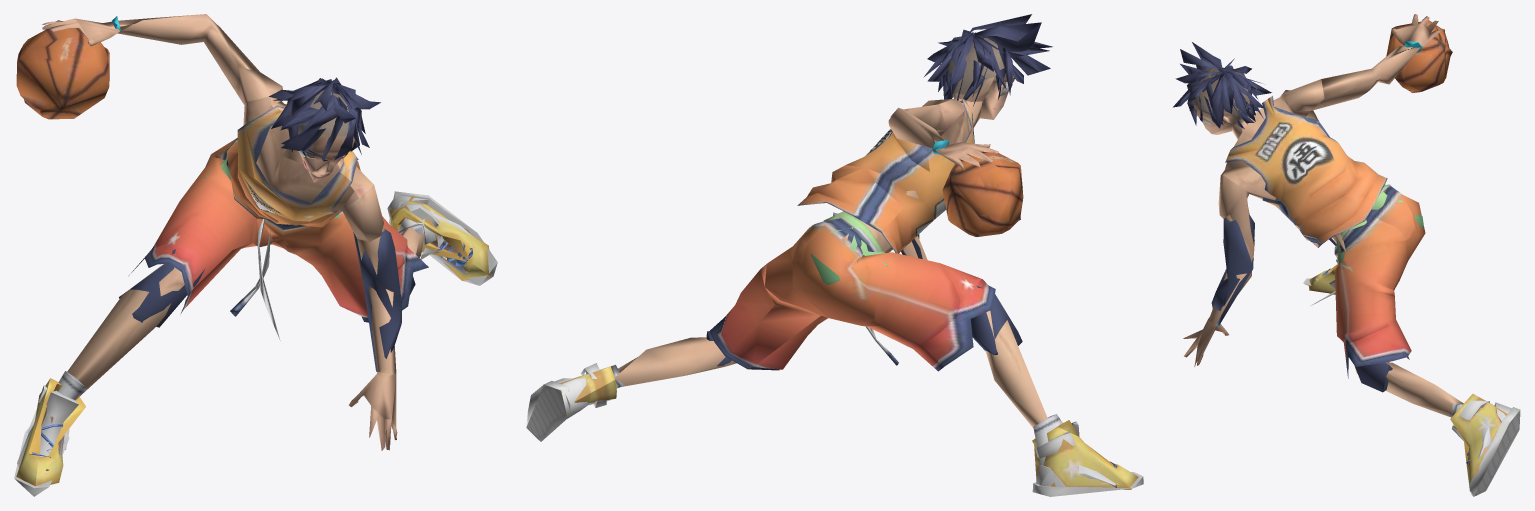
Rendered from Basketball_player.glb.
3 views of the same model, side by side, from view 1: azimuth 30°, elevation 25°; view 2: azimuth 150°, elevation 25°; view 3: azimuth 270°, elevation 25° (orthographic). The views are drawn at different scales.
Parts seen in each view (by area): view 1: 3d66-Editable_mesh-21736404-006, 3d66-Editable_mesh-21736404-001, 3d66-Editable_mesh-21736404-007; view 2: 3d66-Editable_mesh-21736404-007, 3d66-Editable_mesh-21736404-006, 3d66-Editable_mesh-21736404-001; view 3: 3d66-Editable_mesh-21736404-007, 3d66-Editable_mesh-21736404-006, 3d66-Editable_mesh-21736404-001.
Boxes of the visible parts, <box> form: 3d66-Editable_mesh-21736404-006: <box>18,14,470,470</box>; 3d66-Editable_mesh-21736404-001: <box>14,16,497,496</box>; 3d66-Editable_mesh-21736404-007: <box>129,104,428,340</box>; 3d66-Editable_mesh-21736404-007: <box>709,98,995,371</box>; 3d66-Editable_mesh-21736404-006: <box>615,14,1118,484</box>; 3d66-Editable_mesh-21736404-001: <box>526,139,1143,496</box>; 3d66-Editable_mesh-21736404-007: <box>1225,96,1425,378</box>; 3d66-Editable_mesh-21736404-006: <box>1173,14,1488,456</box>; 3d66-Editable_mesh-21736404-001: <box>1211,20,1520,496</box>.
Size of the model in its own units: 1.61 by 1.09 by 1.1.
Materials: 3 (3 with a texture image).
